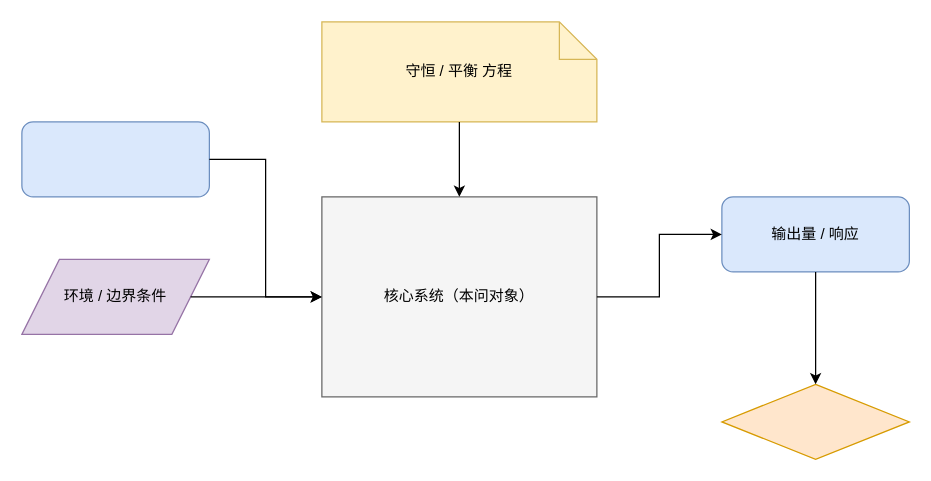
The diagram is 931 pixels wide and 481 high, and some of its shapes have lost their labels. The shapes that lost their labels are listed below. From the top down, each one's centre as x and y in pixels, then its label:
pixel 115 159: 输入量
pixel 815 421: 验证 / 对比
